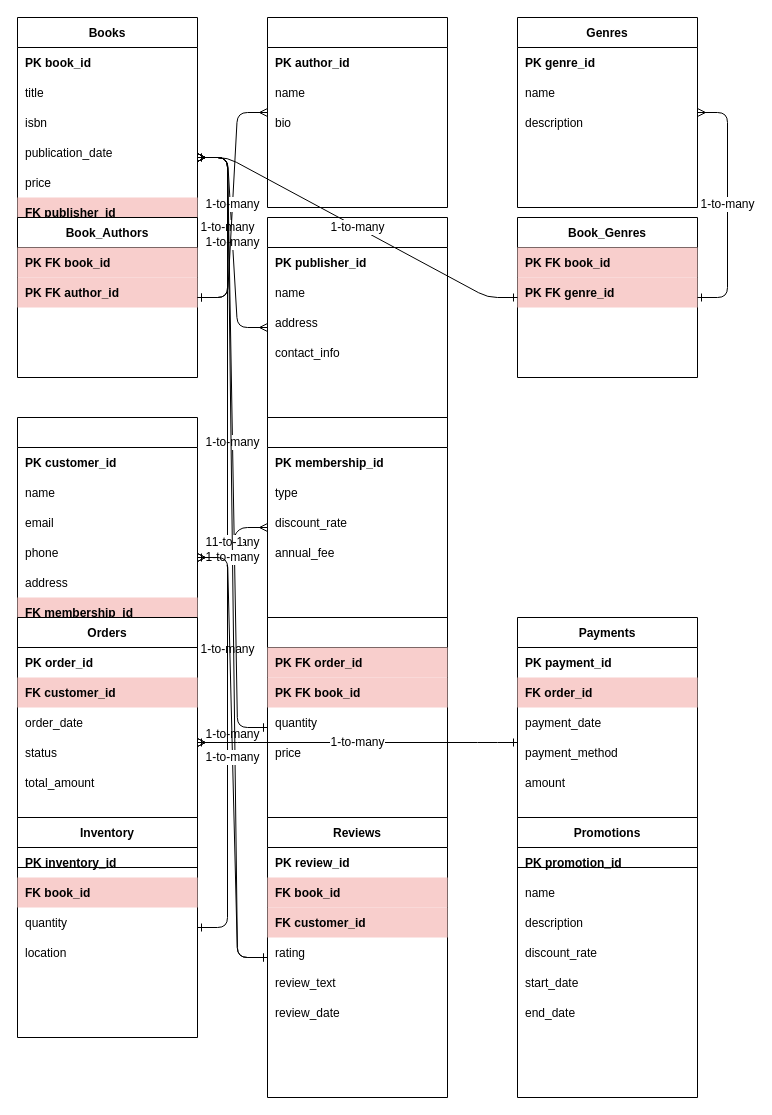
This 772x1115 diagram has some shape labels left out. Here are the shapes that lost their labels. From the top down, the box of each, then its label:
(266, 16, 448, 208): Authors
(266, 216, 448, 438): Publishers
(266, 416, 448, 638): Memberships
(16, 416, 198, 698): Customers
(266, 616, 448, 838): Order_Items
